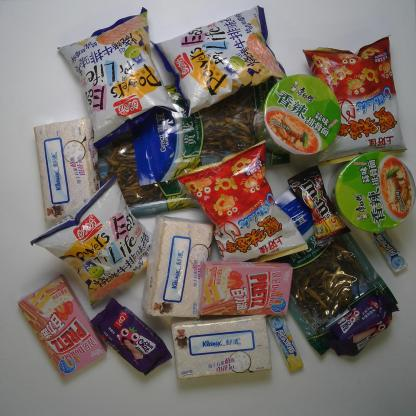Candy: (264, 312, 306, 374), (370, 230, 410, 276)
Chocolate: (284, 164, 354, 250)
Dessert: (16, 272, 110, 384), (88, 296, 175, 379), (194, 258, 296, 320), (326, 291, 402, 358)
Dried Food: (254, 188, 401, 359), (127, 79, 294, 187), (96, 128, 201, 220)
Instant Noodles: (251, 71, 343, 165), (326, 149, 416, 237)
Puffed Food: (54, 5, 180, 150), (28, 172, 154, 310), (174, 139, 310, 263), (148, 4, 287, 121), (301, 31, 410, 171)
Tissue: (139, 212, 215, 321), (32, 114, 101, 227), (169, 314, 274, 382)
